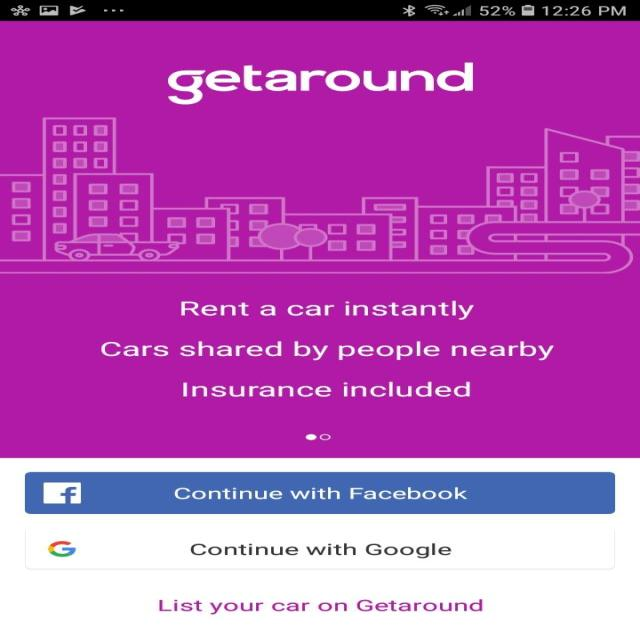Image: (0, 118, 638, 272)
Text: (101, 301, 553, 397), (168, 62, 472, 104), (159, 599, 483, 614)
TextButton: (24, 472, 614, 513), (24, 528, 614, 569)
